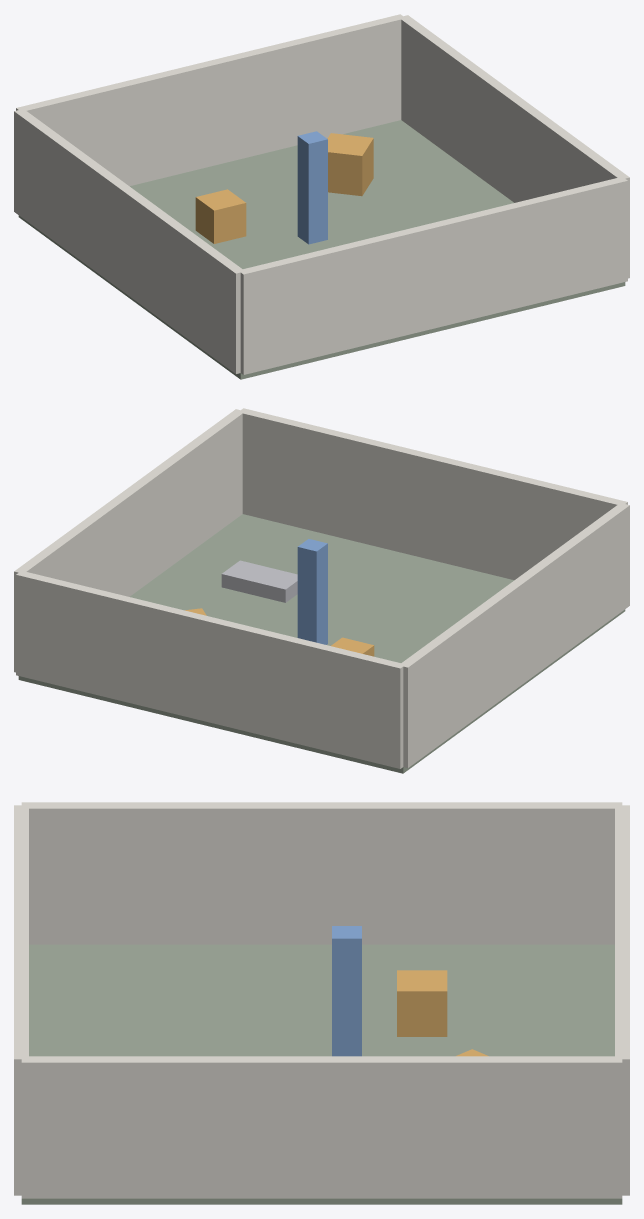
File: world.gltf
The picture shows the model from 3 angles, top to bottom: view 1: azimuth 30°, elevation 25°; view 2: azimuth 150°, elevation 25°; view 3: azimuth 270°, elevation 25°; orthographic projection. The views are drawn at different scales.
Visible parts, largest first — view 1: Wall_South, Wall_North, Wall_West, Floor, Wall_East, Pillar, Crate_B, Crate_A; view 2: Wall_North, Wall_South, Floor, Wall_West, Wall_East, Pillar, Step; view 3: Wall_East, Wall_West, Floor, Wall_South, Wall_North, Pillar, Crate_A.
Part boxes in pixels (x1,y1,x2,y2): Wall_South: (240, 177, 627, 374); Wall_North: (16, 14, 405, 186); Wall_West: (14, 109, 244, 373); Floor: (18, 120, 625, 379); Wall_East: (401, 15, 629, 278); Pillar: (297, 131, 327, 244); Crate_B: (327, 133, 373, 196); Crate_A: (195, 189, 246, 243); Wall_North: (16, 571, 404, 768); Wall_South: (238, 408, 627, 580); Floor: (18, 514, 625, 773); Wall_West: (399, 503, 629, 767); Wall_East: (14, 409, 244, 672); Pillar: (297, 539, 327, 644); Step: (221, 560, 297, 602); Wall_East: (21, 1056, 622, 1198); Wall_West: (21, 802, 622, 944); Floor: (21, 944, 622, 1204); Wall_South: (14, 805, 28, 1195); Wall_North: (615, 805, 629, 1195); Pillar: (332, 926, 361, 1056); Crate_A: (397, 970, 447, 1036).
Bounding box in the file's own units: 12.3 × 3.2 × 12.3.
